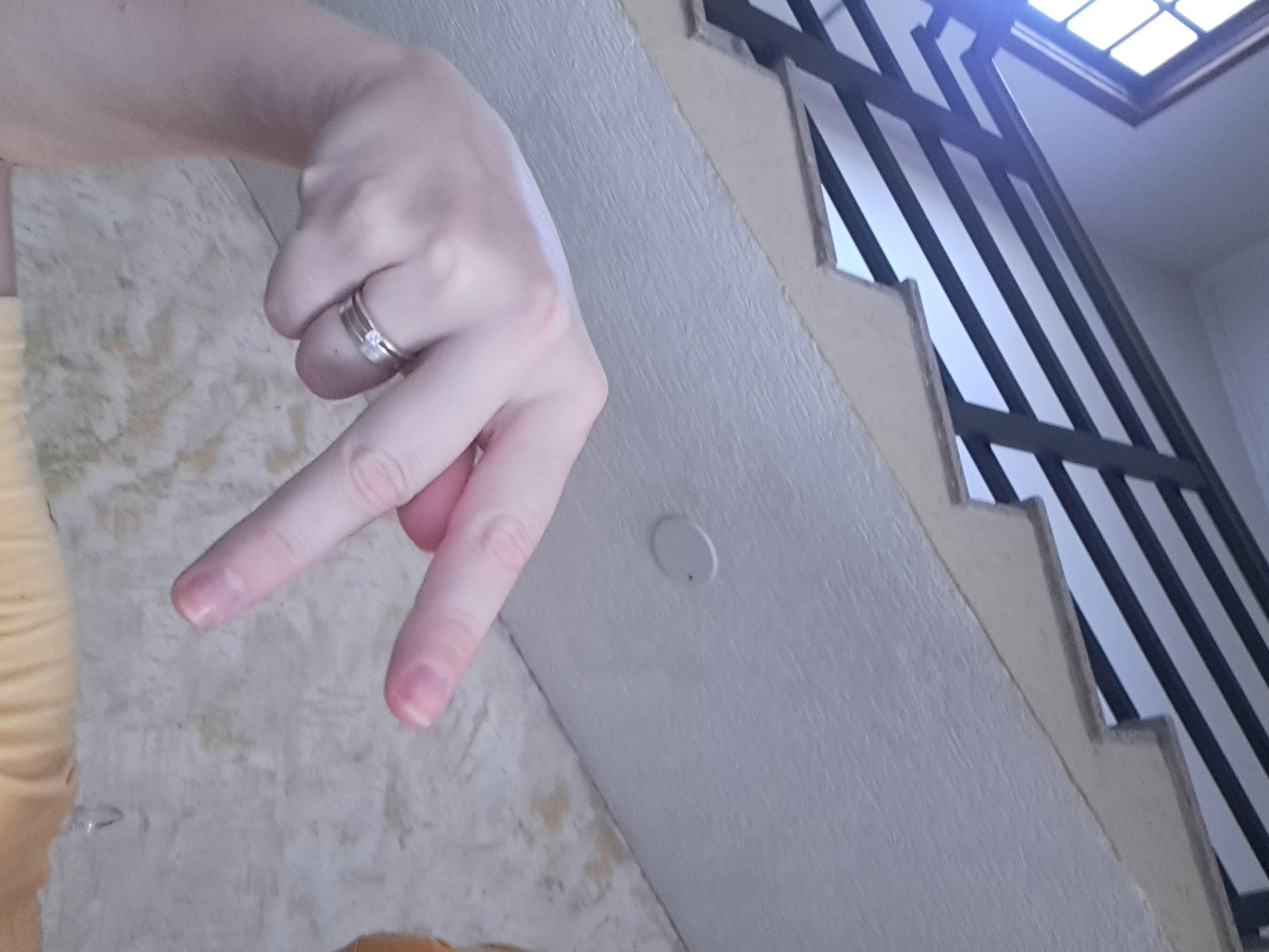P: (52, 490, 1006, 837)
